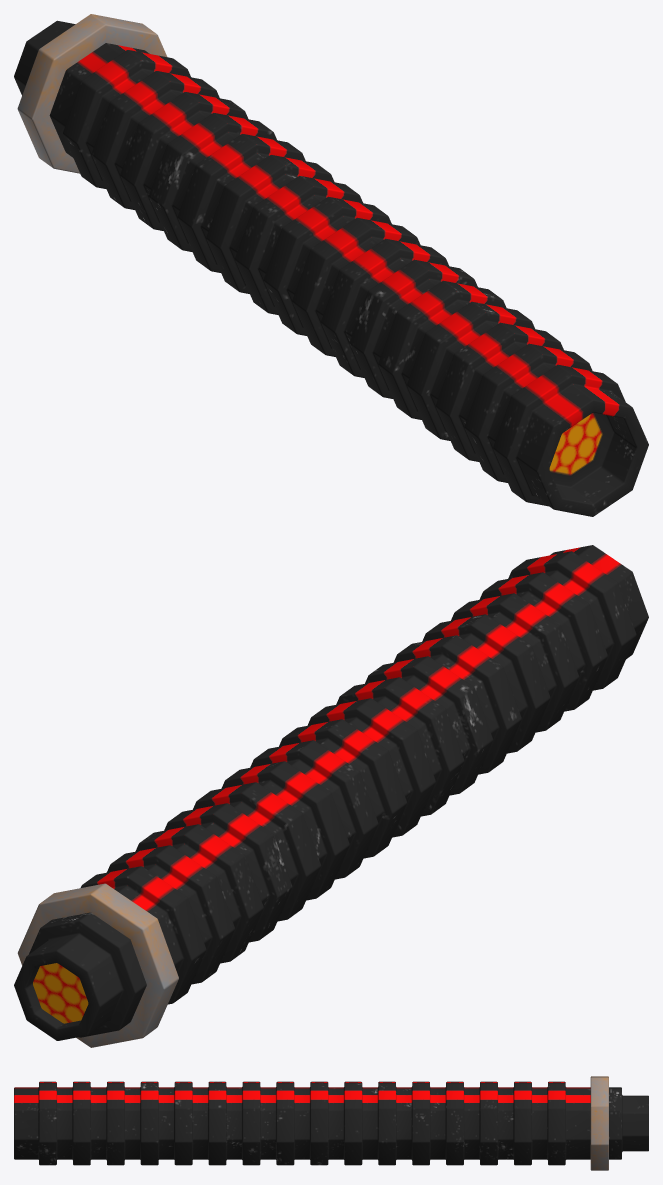
Rendered from cable_recto.fbx.
3 renders of one model, top to bottom at view 1: azimuth 30°, elevation 25°; view 2: azimuth 150°, elevation 25°; view 3: azimuth 270°, elevation 25°, orthographic. The views are drawn at different scales.
Parts seen in each view (by area): view 1: cabloe_recto_rojo; view 2: cabloe_recto_rojo; view 3: cabloe_recto_rojo.
Part boxes in pixels (x1=…): cabloe_recto_rojo: x1=14, y1=14, x2=648, y2=516; cabloe_recto_rojo: x1=14, y1=545, x2=648, y2=1047; cabloe_recto_rojo: x1=14, y1=1076, x2=648, y2=1170.
Bounding box in the file's own units: 52.19 × 52.19 × 330.
